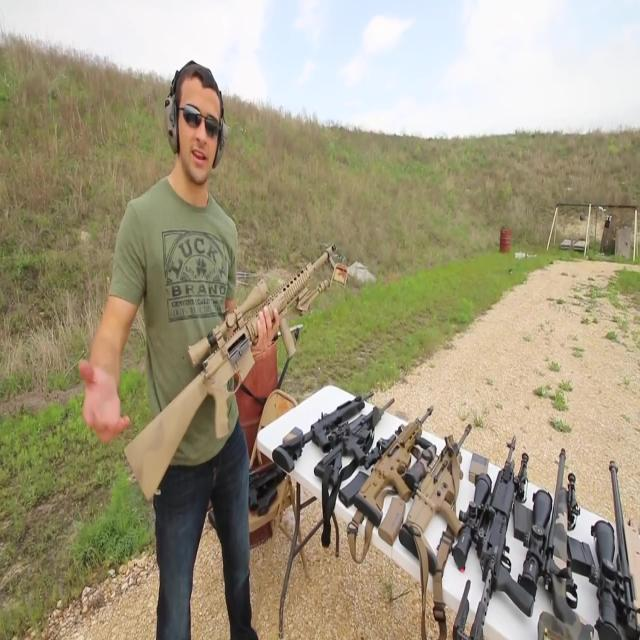Weapon: (204, 305, 640, 640), (95, 224, 412, 523)
